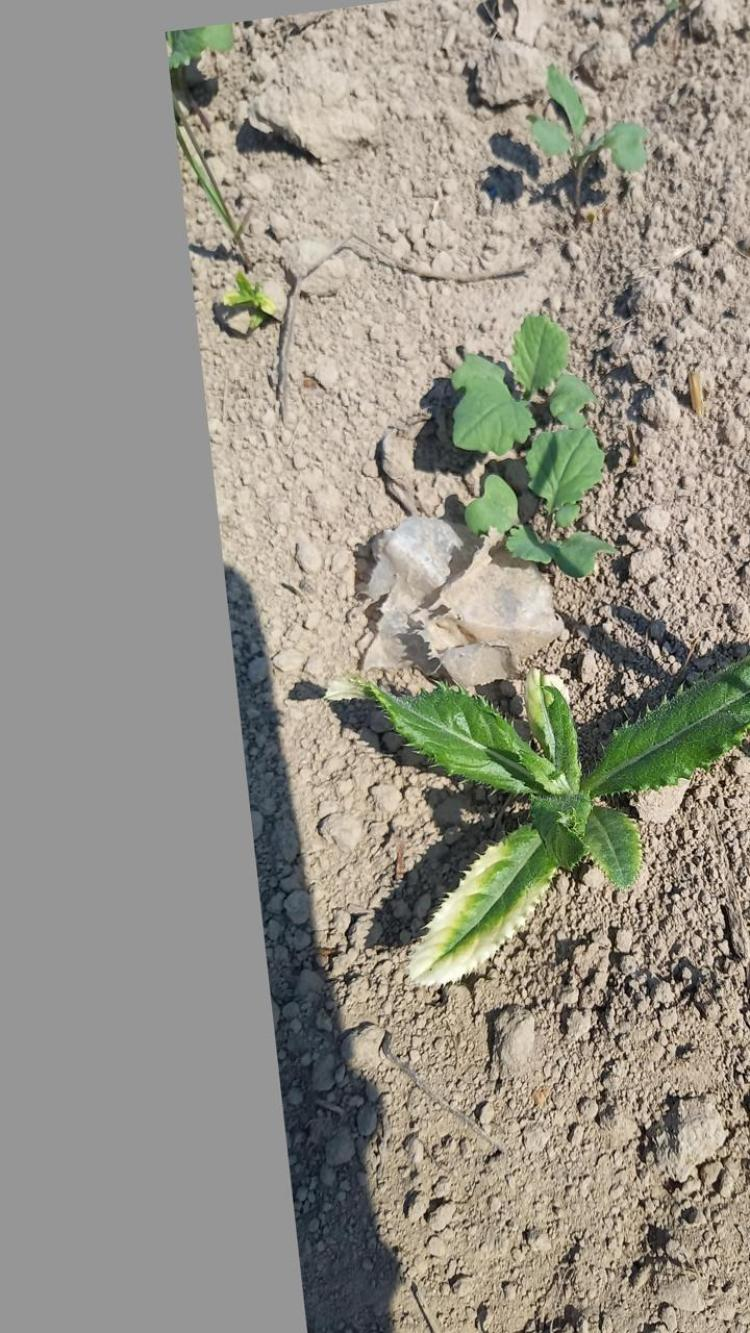bodyak: (354, 669, 750, 987)
